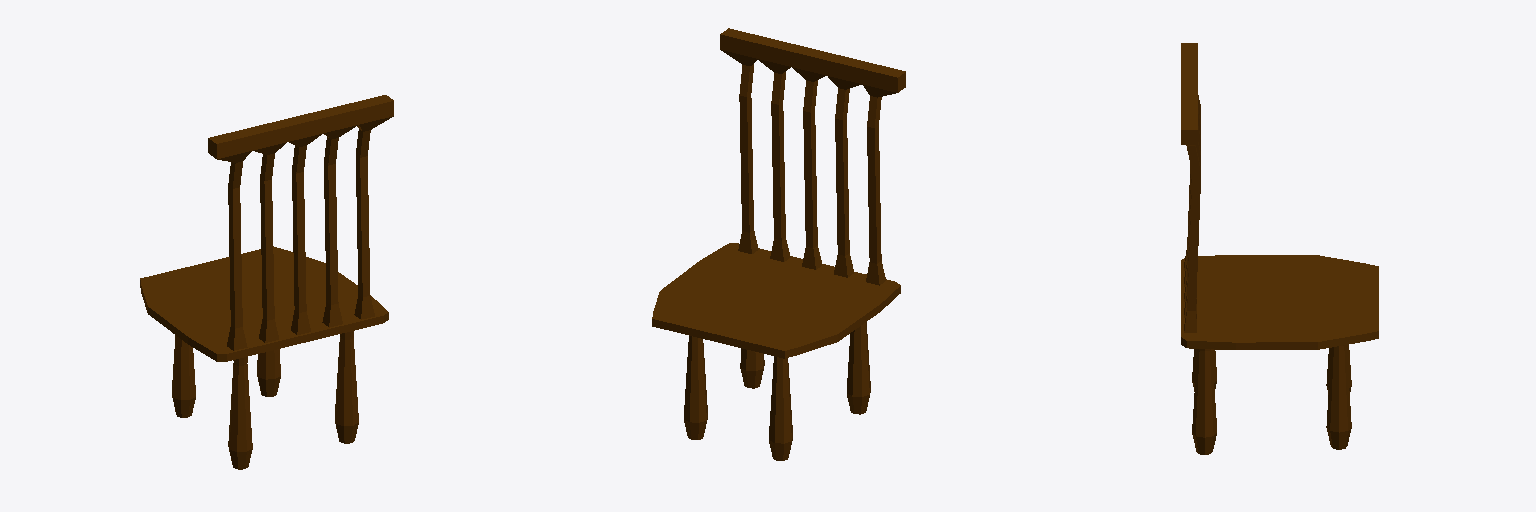
The model's file is ChairUVmap.obj.
3 views of the same model, side by side, from view 1: azimuth 30°, elevation 25°; view 2: azimuth 150°, elevation 25°; view 3: azimuth 270°, elevation 25° (orthographic).
Parts seen in each view (by area): view 1: Chairleg6; view 2: Chairleg6; view 3: Chairleg6.
Boxes of the visible parts, x1,y1,x2,y2 form: Chairleg6: [140, 95, 393, 469]; Chairleg6: [652, 28, 905, 460]; Chairleg6: [1181, 43, 1378, 454].
Size of the model in its own units: 21.53 by 38.78 by 20.51.